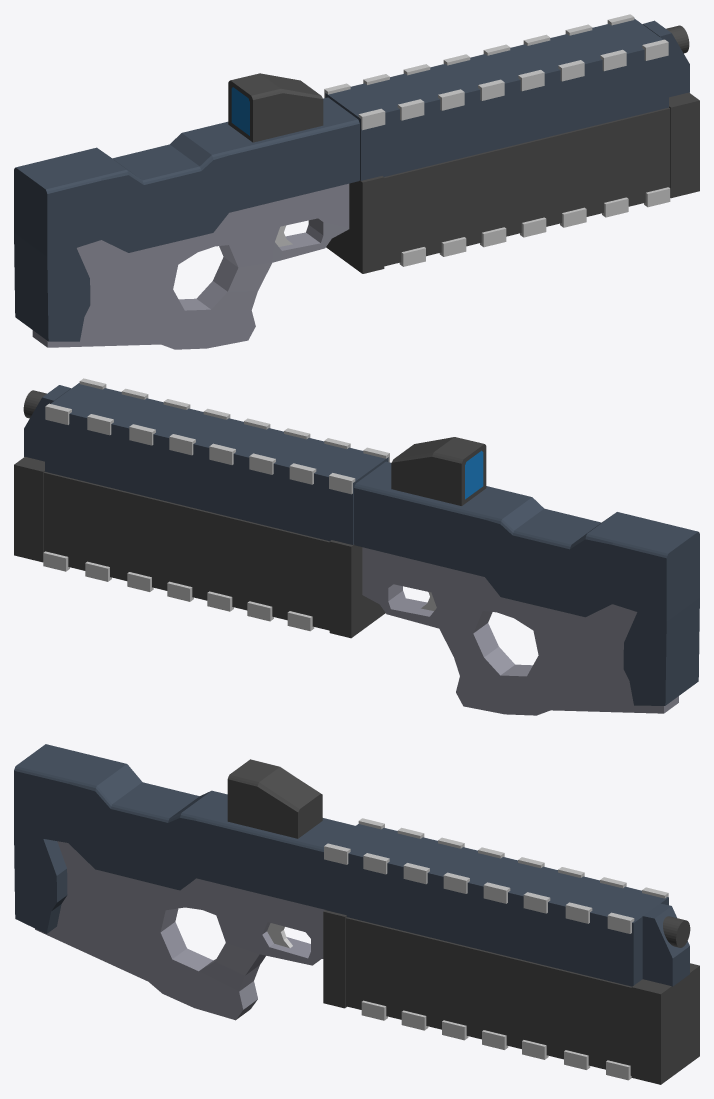
Rendered from Sci-Fi Gun.obj.
3 renders of one model, top to bottom at view 1: azimuth 30°, elevation 25°; view 2: azimuth 150°, elevation 25°; view 3: azimuth 330°, elevation 25°, orthographic.
Parts seen in each view (by area): view 1: Cube.032, Cube, Cube.015, Cube.034, Cube.035, Cube.033; view 2: Cube.032, Cube, Cube.015, Cube.034, Cube.035, Cube.033; view 3: Cube, Cube.032, Cube.015, Cube.034, Cube.035, Cube.033, Cylinder.
Boxes of the visible parts, left/top/right/bottom form: Cube.032: left=14, top=97, right=359, bottom=341; Cube: left=326, top=92, right=699, bottom=273; Cube.015: left=325, top=18, right=668, bottom=180; Cube.034: left=32, top=183, right=349, bottom=349; Cube.035: left=228, top=73, right=323, bottom=142; Cube.033: left=642, top=20, right=689, bottom=97; Cube.032: left=354, top=461, right=699, bottom=705; Cube: left=14, top=457, right=385, bottom=638; Cube.015: left=45, top=383, right=388, bottom=544; Cube.034: left=362, top=547, right=678, bottom=715; Cube.035: left=391, top=437, right=486, bottom=505; Cube.033: left=24, top=385, right=71, bottom=461; Cube: left=323, top=910, right=699, bottom=1084; Cube.032: left=14, top=744, right=354, bottom=933; Cube.015: left=325, top=824, right=668, bottom=986; Cube.034: left=35, top=841, right=324, bottom=1020; Cube.035: left=227, top=759, right=322, bottom=838; Cube.033: left=642, top=903, right=689, bottom=986; Cylinder: left=663, top=916, right=690, bottom=947.
Size of the model in its own units: 8.75 by 3.19 by 0.9771.
